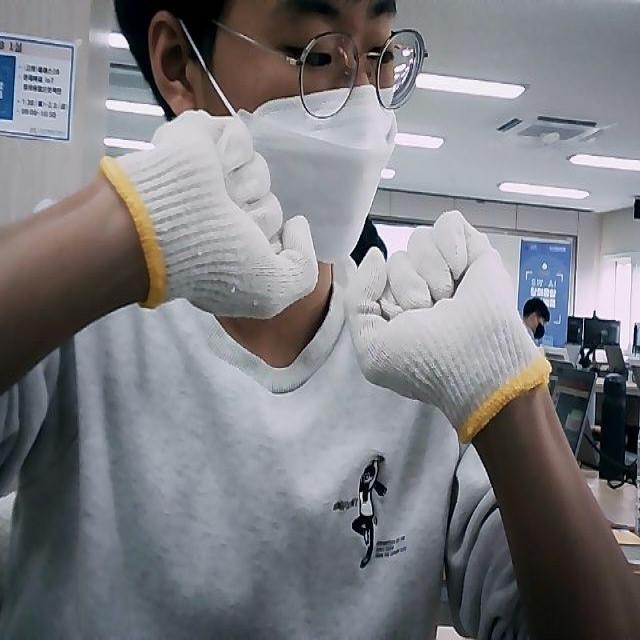Guantes: (352, 210, 552, 437), (102, 111, 318, 320)
